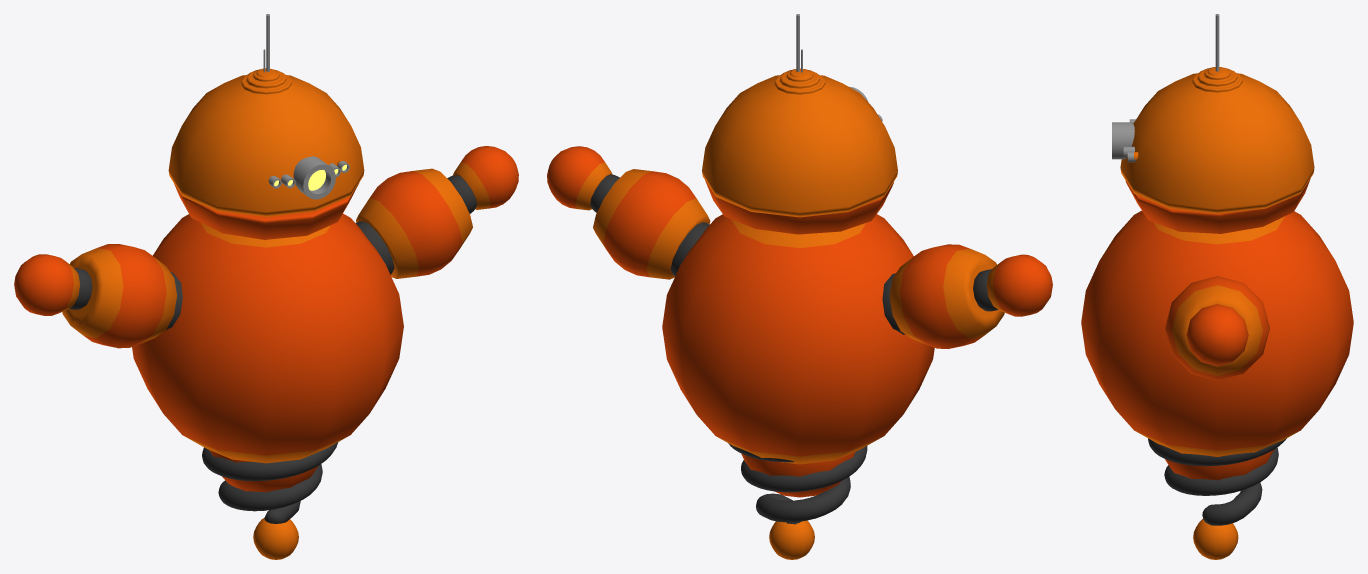
The model's file is Robot2.fbx.
3 views of the same model, side by side, from view 1: azimuth 30°, elevation 25°; view 2: azimuth 150°, elevation 25°; view 3: azimuth 270°, elevation 25° (orthographic).
Parts seen in each view (by area): view 1: pSphere1, pSphere3, pSphere10, pSphere8, Sweep_1, pSphere11, pSphere9, pSphere4, pPipe1, pSphere2, pSphere12; view 2: pSphere1, pSphere3, pSphere8, pSphere10, Sweep_1, pSphere11, pSphere9, pSphere2, pSphere4, pSphere12; view 3: pSphere1, pSphere3, pSphere8, Sweep_1, pSphere9, pSphere4, pSphere2, pPipe1.
Boxes of the visible parts, x1,y1,x2,y2 form: pSphere1: (132, 213, 403, 463); pSphere3: (168, 68, 364, 239); pSphere10: (62, 244, 176, 348); pSphere8: (356, 168, 472, 278); Sweep_1: (202, 442, 338, 523); pSphere11: (14, 254, 80, 315); pSphere9: (452, 146, 518, 209); pSphere4: (253, 518, 298, 559); pPipe1: (293, 156, 335, 199); pSphere2: (209, 450, 317, 492); pSphere12: (355, 221, 394, 274); pSphere1: (662, 214, 934, 464); pSphere3: (702, 68, 897, 234); pSphere8: (593, 169, 710, 279); pSphere10: (889, 244, 1004, 348); Sweep_1: (728, 443, 867, 524); pSphere11: (986, 254, 1052, 316); pSphere9: (547, 146, 612, 210); pSphere2: (741, 451, 855, 497); pSphere4: (769, 520, 814, 559); pSphere12: (670, 222, 709, 276); pSphere1: (1081, 210, 1353, 456); pSphere3: (1120, 67, 1314, 233); pSphere8: (1165, 276, 1269, 380); Sweep_1: (1148, 438, 1286, 525); pSphere9: (1186, 304, 1248, 366); pSphere4: (1193, 519, 1238, 559); pSphere2: (1165, 449, 1274, 480); pPipe1: (1112, 122, 1134, 159).
Size of the model in its own units: 83.55 by 87.53 by 40.08.
